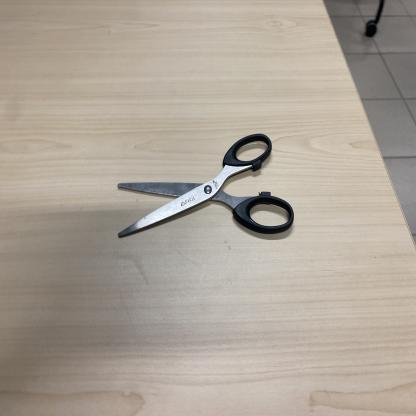scissors: (117, 129, 295, 240)
